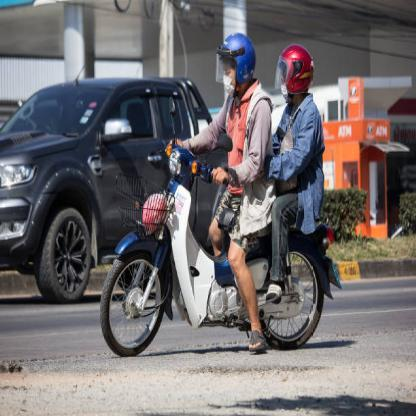Motorcycle: (101, 143, 331, 353)
